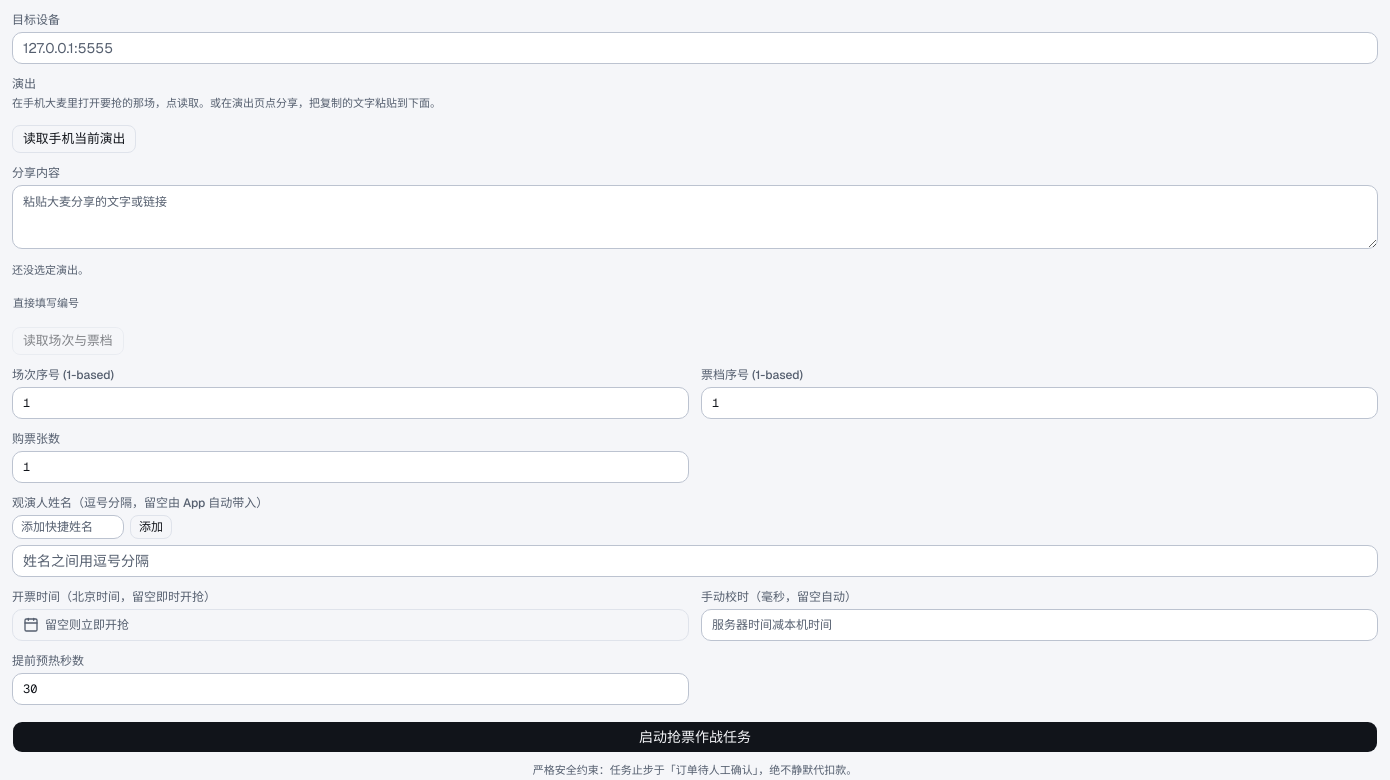
Test case: TaskForm 观演人快捷项 › 添加后出现按钮，点击按钮写入观演人输入框
Type " 王五 " into the field labelled "添加快捷姓名".
click(68, 527); type(" 王五 ")  # box [12,515,124,539]
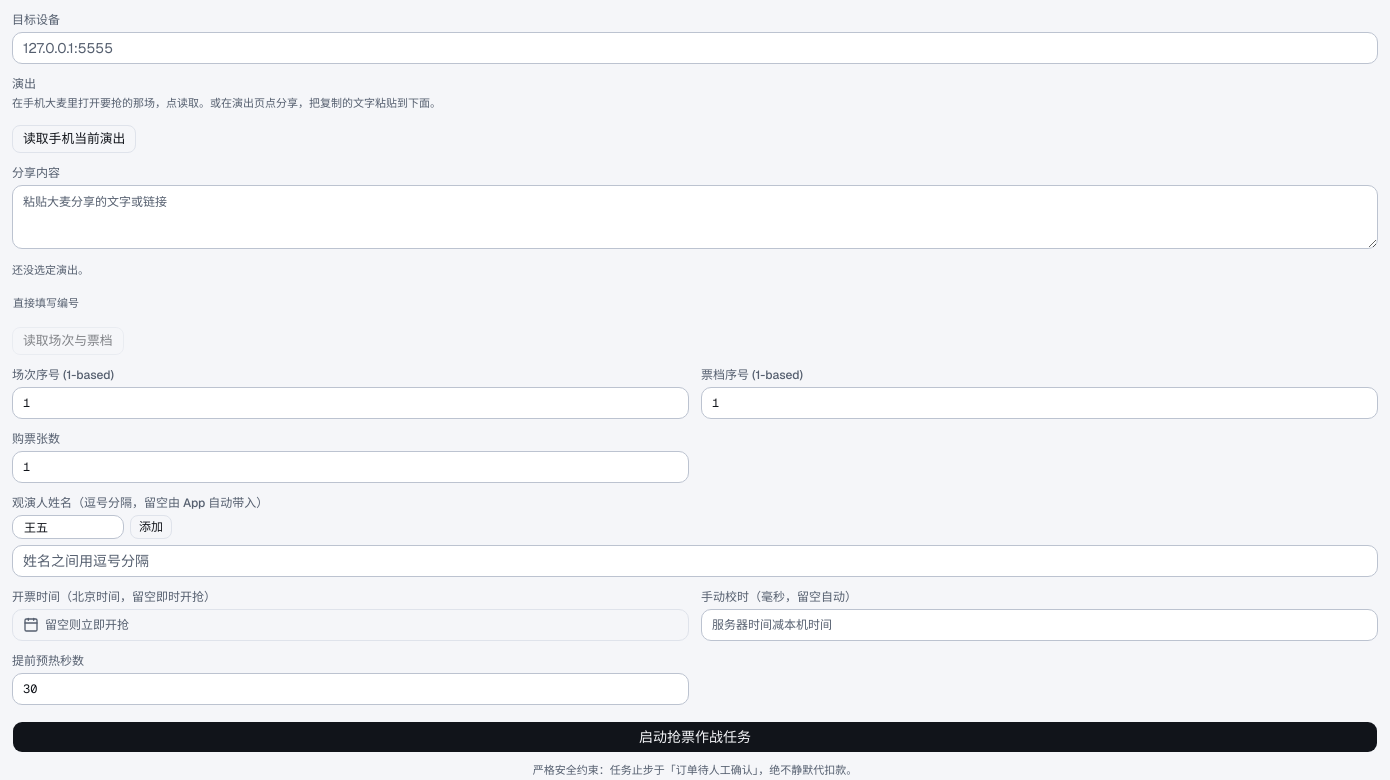
Click the button "添加".
click(151, 527)  # box [130,515,172,539]
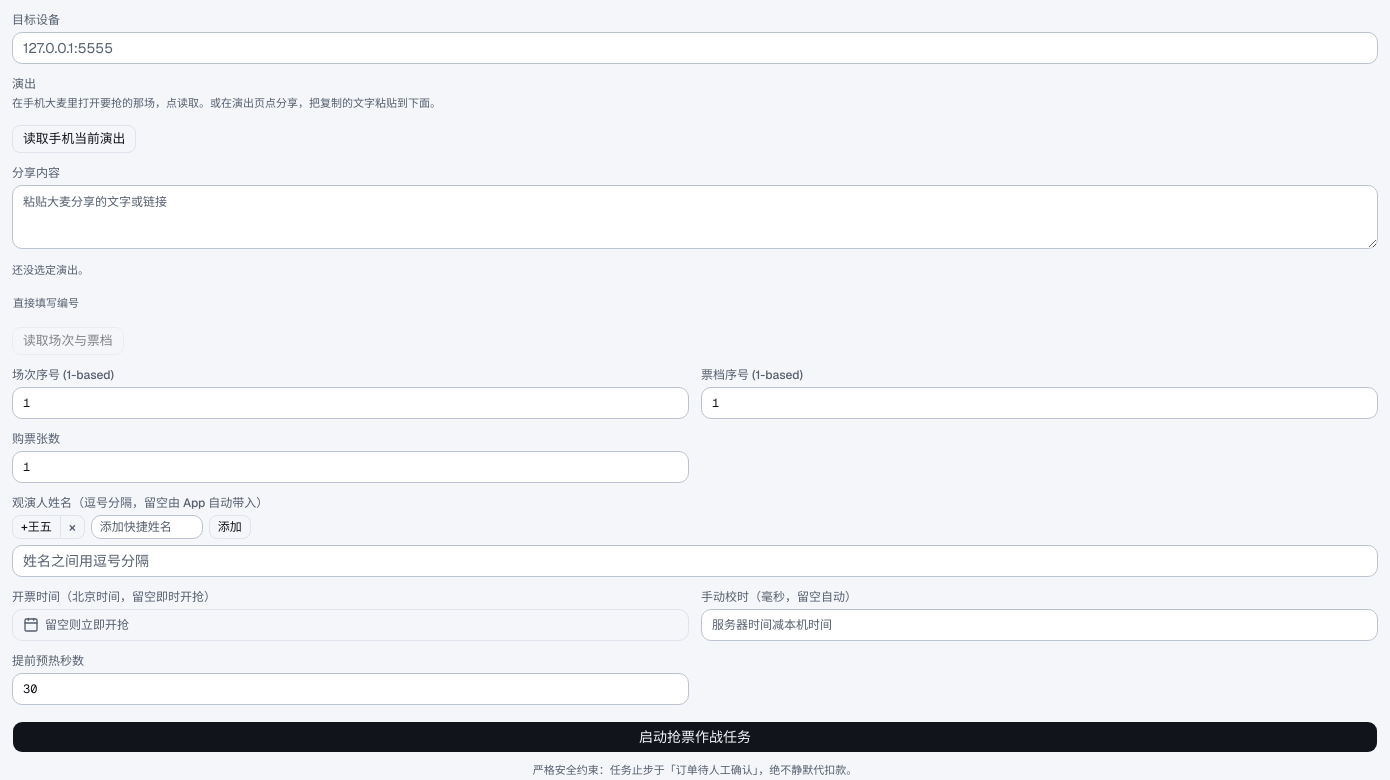
Expected: the button "+王五" is shown
Click the button "+王五".
click(36, 527)  # box [12,515,61,539]
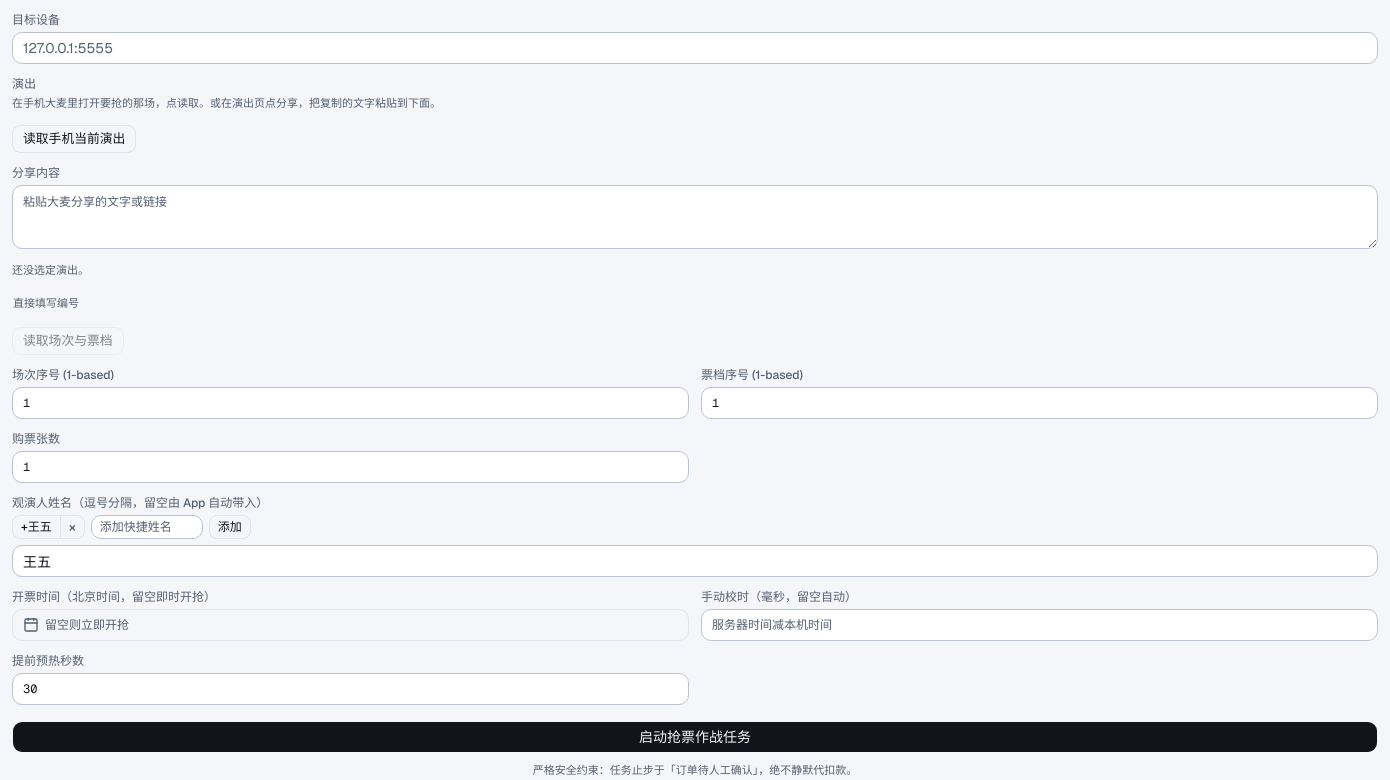
Expected: the field with placeholder "姓名之间用逗号分隔" holds "王五", [12,545,1378,577]
